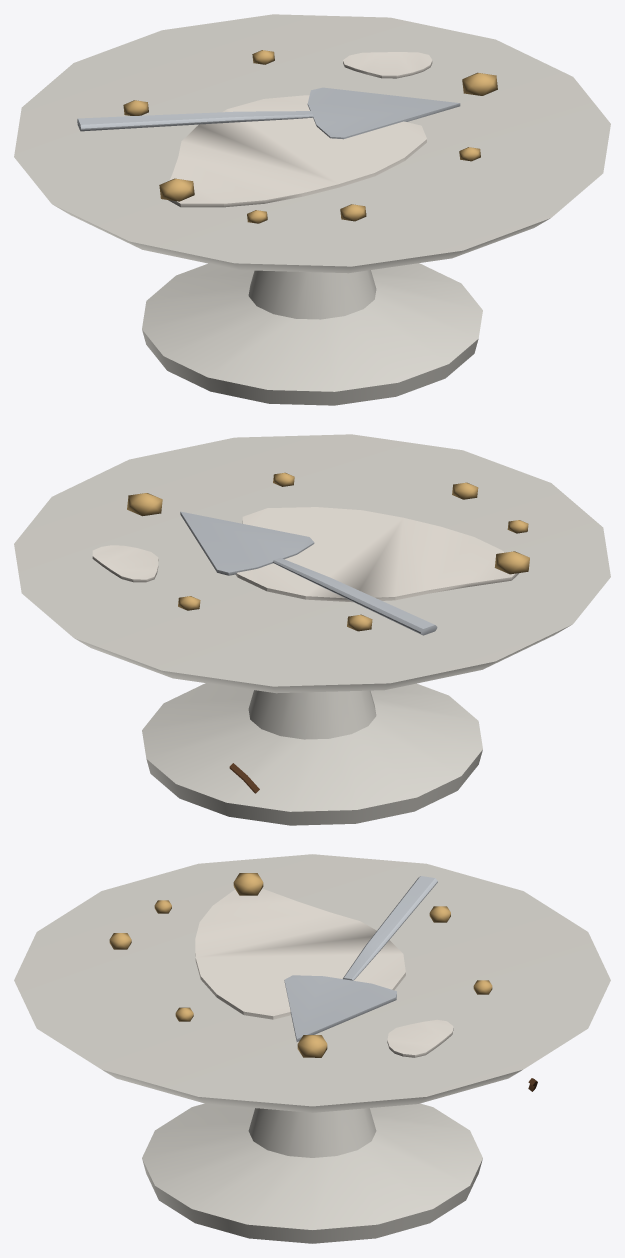
File: cakeStandDirty.glb
The picture shows the model from 3 angles, top to bottom: view 1: azimuth 30°, elevation 25°; view 2: azimuth 150°, elevation 25°; view 3: azimuth 270°, elevation 25°; orthographic projection.
Parts seen in each view (by area): view 1: cakeStandDirty; view 2: cakeStandDirty; view 3: cakeStandDirty.
Boxes of the visible parts, left/top/right/bottom form: cakeStandDirty: left=14, top=14, right=610, bottom=405; cakeStandDirty: left=14, top=434, right=610, bottom=825; cakeStandDirty: left=14, top=854, right=610, bottom=1243.
Size of the model in its own units: 0.28 by 0.1135 by 0.28.
